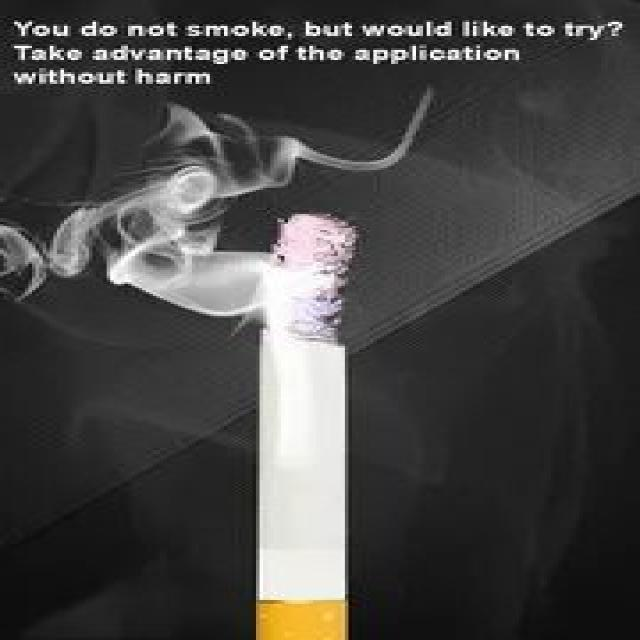cigarette: (252, 210, 362, 640)
